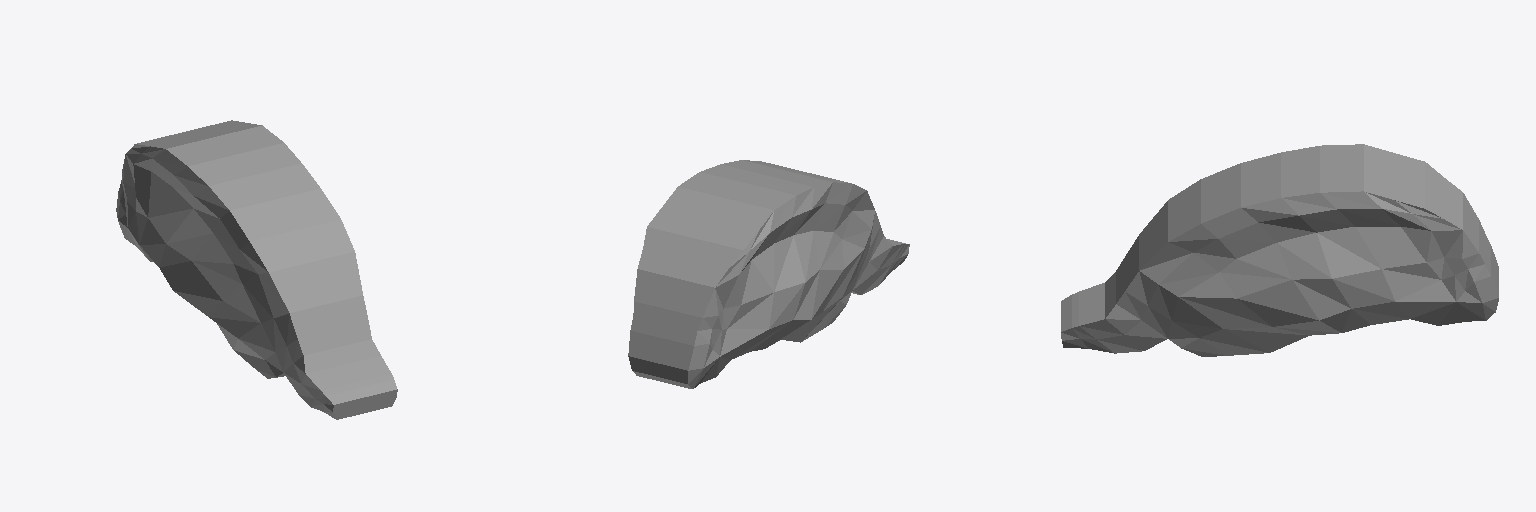
File: sushi.obj
The picture shows the model from 3 angles: view 1: azimuth 30°, elevation 25°; view 2: azimuth 150°, elevation 25°; view 3: azimuth 270°, elevation 25°; orthographic projection.
Parts seen in each view (by area): view 1: Plane_Plane.001; view 2: Plane_Plane.001; view 3: Plane_Plane.001.
Boxes of the visible parts, <box> form: Plane_Plane.001: <box>116,120,397,419</box>; Plane_Plane.001: <box>628,160,909,388</box>; Plane_Plane.001: <box>1061,144,1498,356</box>.
Bounding box in the file's own units: 1.73 × 2.29 × 5.15.